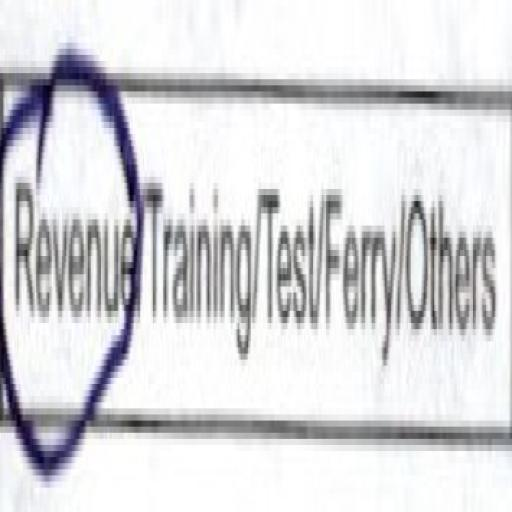check: (0, 17, 142, 484)
